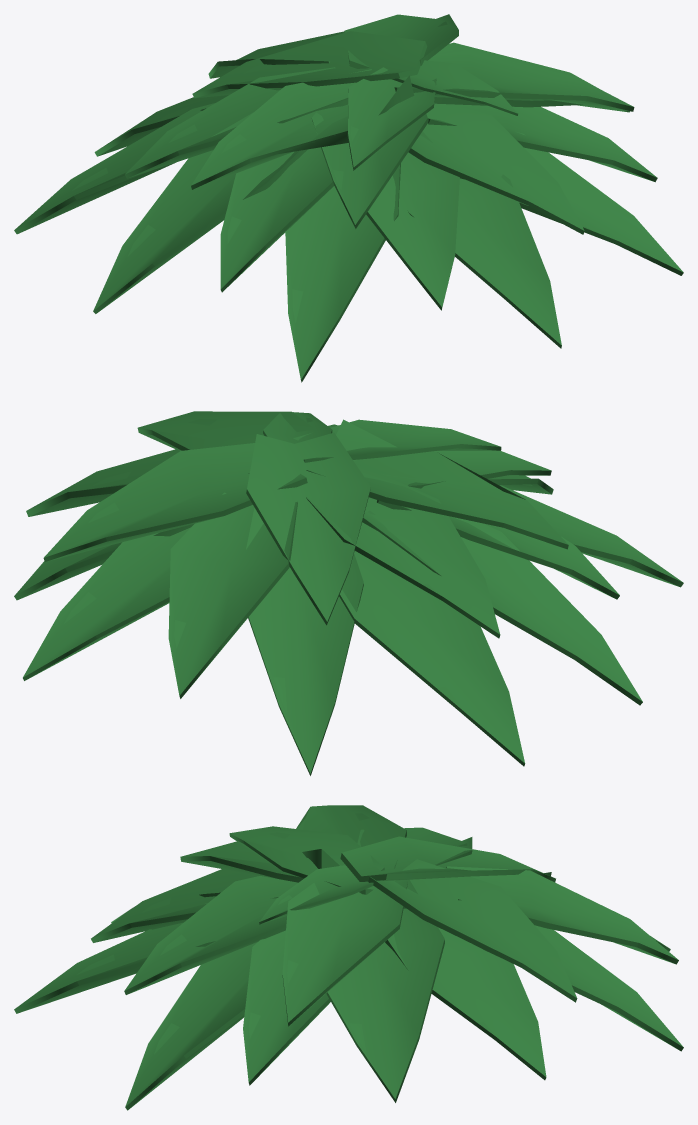
Rendered from Fougères.fbx.
3 views of the same model, one above another, from view 1: azimuth 30°, elevation 25°; view 2: azimuth 150°, elevation 25°; view 3: azimuth 270°, elevation 25° (orthographic). The views are drawn at different scales.
Visible parts, largest first — view 1: polySurface15; view 2: polySurface15; view 3: polySurface15.
Boxes of the visible parts, x1=… form: polySurface15: x1=14, y1=14, x2=683, y2=382; polySurface15: x1=14, y1=411, x2=683, y2=775; polySurface15: x1=14, y1=805, x2=683, y2=1110.
Bounding box in the file's own units: 1.21 × 0.3763 × 1.25.
